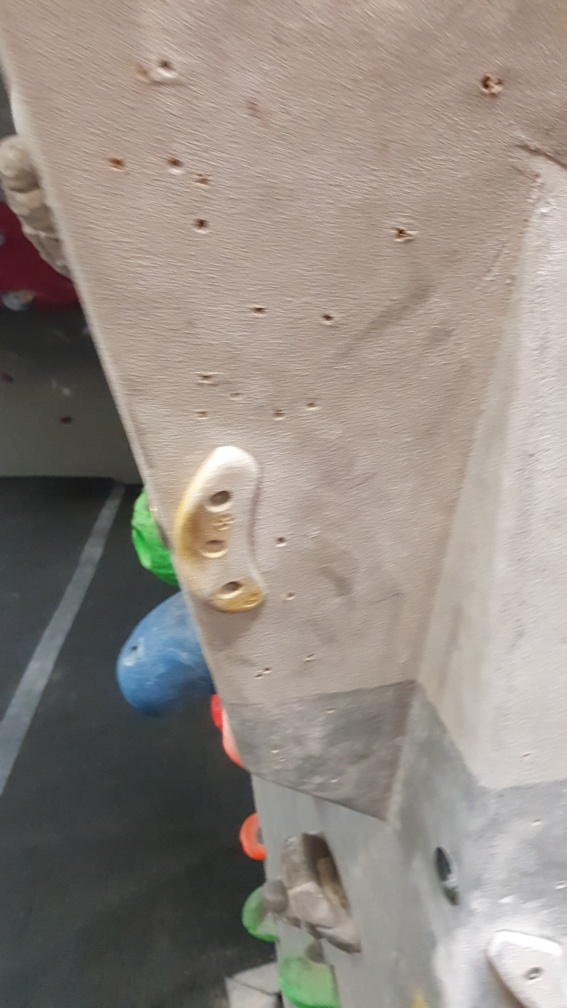Crimp: (488, 926, 567, 1006)
Hand Start: (429, 848, 466, 906)
Jug: (280, 824, 369, 954)
